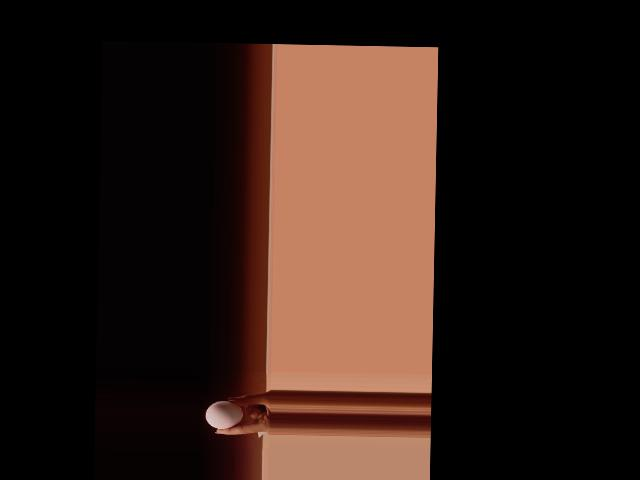egg: (205, 400, 243, 429)
